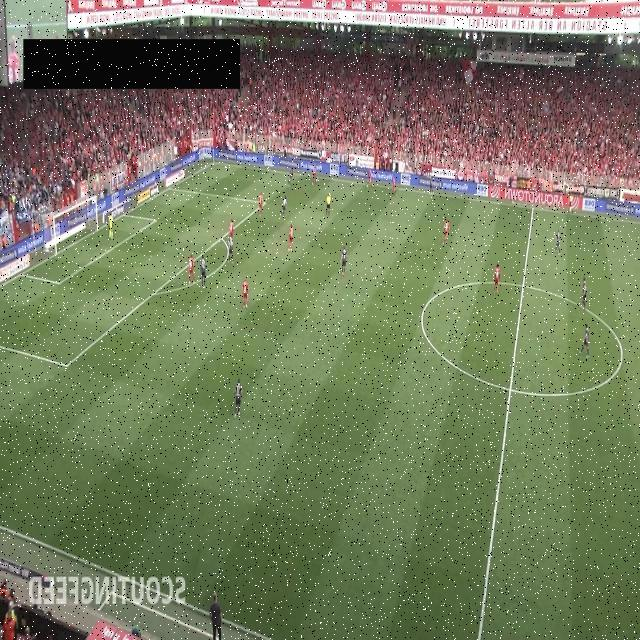Ball: (316, 177, 318, 181)
Corner: (212, 146, 215, 163)
GoalKeeper: (108, 210, 114, 240)
Referee: (326, 192, 332, 216), (568, 192, 574, 214)
TEAM 1: (188, 253, 196, 285), (442, 218, 450, 246), (494, 263, 501, 295), (287, 224, 294, 252), (242, 277, 248, 309), (228, 218, 234, 247), (366, 168, 374, 188), (258, 192, 264, 218), (312, 166, 318, 186), (392, 176, 396, 196)
TEAM 2: (578, 322, 590, 358), (234, 377, 242, 419), (340, 246, 348, 276), (200, 256, 207, 288), (554, 230, 562, 254), (228, 233, 234, 264), (280, 195, 288, 218), (582, 277, 586, 311), (428, 174, 434, 194), (287, 168, 293, 186)
